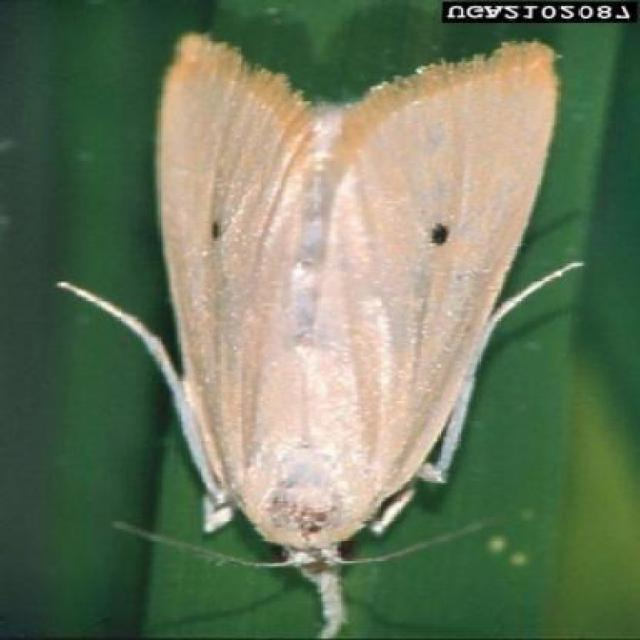stem-borer: (114, 27, 568, 640)
